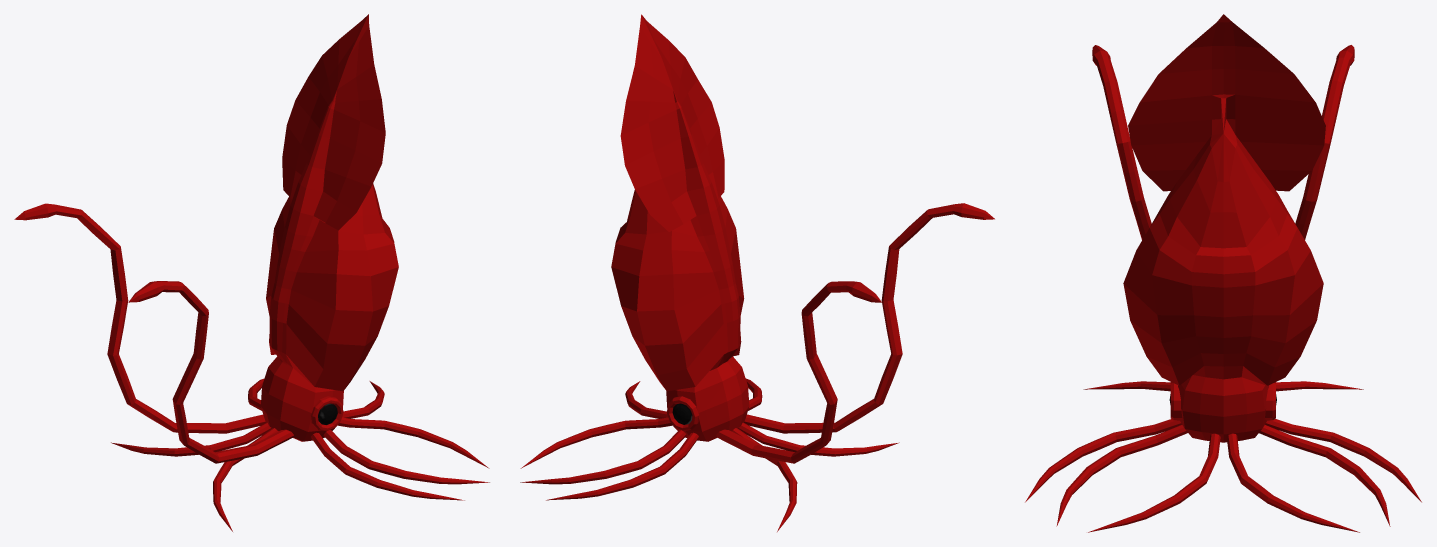
File: Lula.fbx
3 renders of one model, left to right at view 1: azimuth 30°, elevation 25°; view 2: azimuth 150°, elevation 25°; view 3: azimuth 270°, elevation 25°, orthographic. The views are drawn at different scales.
Visible parts, largest first — view 1: LulaMalha; view 2: LulaMalha; view 3: LulaMalha.
Part boxes in pixels (x1,y1,x2,y2): LulaMalha: (14,14,489,531); LulaMalha: (520,14,994,531); LulaMalha: (1025,14,1421,532).
Bounding box in the file's own units: 807 × 917 × 680.
